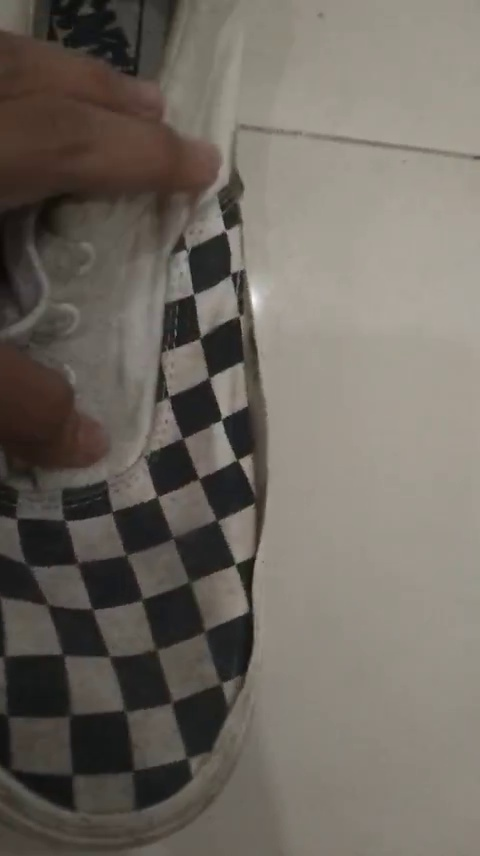bonding: (233, 264, 274, 533)
